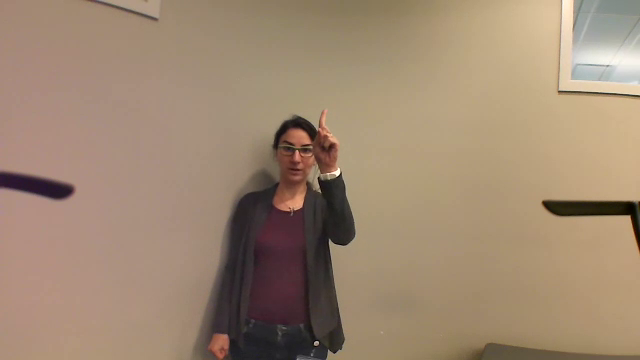up: (307, 106, 349, 175)
